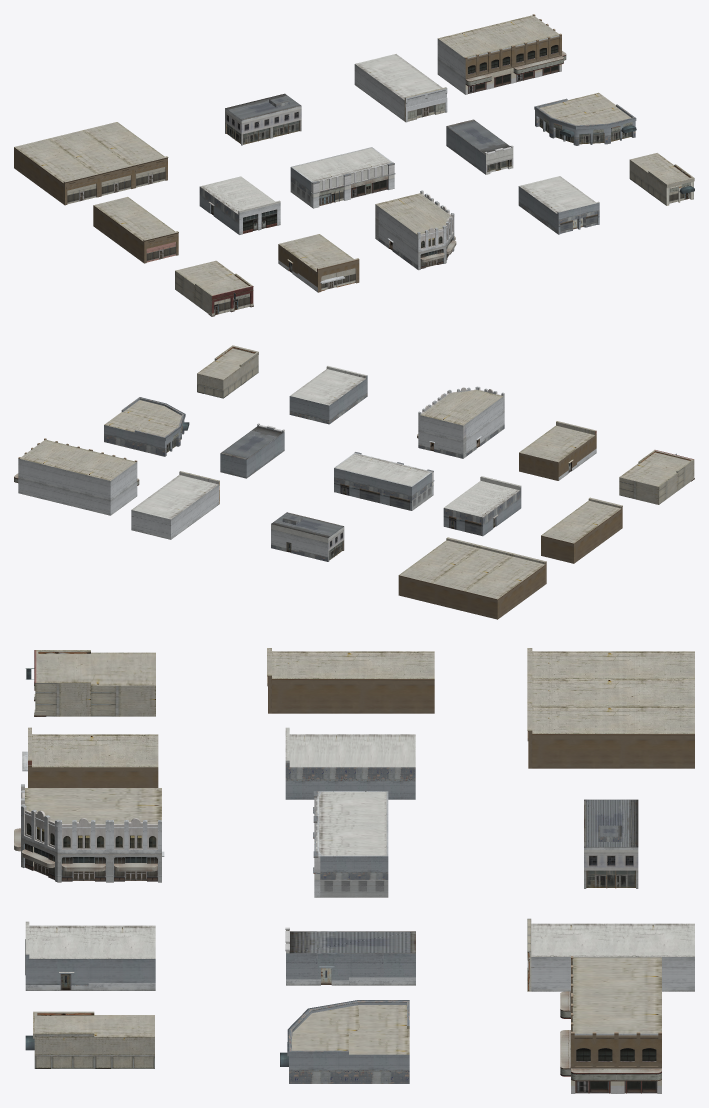
File: city_midcity_set.glb
The picture shows the model from 3 angles, top to bottom: view 1: azimuth 30°, elevation 25°; view 2: azimuth 150°, elevation 25°; view 3: azimuth 270°, elevation 25°; orthographic projection. The views are drawn at different scales.
Visible parts, largest first — view 1: MidCity_Commercial_5_B_Midcity_Facade_FLR_1_0, MidCity_Commercial_14_Midcity_Facade_FLR_1_0, MidCity_Commercial_6_Midcity_Facade_FLR_2_0, MidCity_Commercial_1_Midcity_Facade_FLR_2_0, MidCity_Commercial_7_Midcity_Facade_FLR_2_0, MidCity_Commercial_14_Midcity_Walls_FLR_1_0, MidCity_Commercial_11_Midcity_Facade_FLR_1_0, MidCity_Commercial_4_Midcity_Facade_FLR_2_0, MidCity_Commercial_2_Midcity_Facade_FLR_2_0, MidCity_Commercial_8_Midcity_Facade_FLR_2_0, MidCity_Commercial_15_Midcity_Facade_FLR_2_0, MidCity_Commercial_8_Midcity_Facade_FLR_1_0 (+11 smaller); view 2: MidCity_Commercial_5_B_Midcity_Facade_FLR_1_0, MidCity_Commercial_14_Midcity_Walls_FLR_1_0, MidCity_Commercial_1_Midcity_Facade_FLR_2_0, MidCity_Commercial_6_Midcity_Facade_FLR_2_0, MidCity_Commercial_8_Midcity_Facade_FLR_2_0, MidCity_Commercial_2_Midcity_Facade_FLR_2_0, MidCity_Commercial_5_B_Midcity_Walls_FLR_1_0, MidCity_Commercial_7_Midcity_Facade_FLR_2_0, MidCity_Commercial_11_Midcity_Facade_FLR_1_0, MidCity_Commercial_4_Midcity_Facade_FLR_2_0, MidCity_Commercial_14_Midcity_Facade_FLR_1_0, MidCity_Commercial_15_Midcity_Facade_FLR_2_0 (+8 smaller); view 3: MidCity_Commercial_5_B_Midcity_Facade_FLR_1_0, MidCity_Commercial_14_Midcity_Facade_FLR_1_0, MidCity_Commercial_7_Midcity_Facade_FLR_2_0, MidCity_Commercial_8_Midcity_Facade_FLR_1_0, MidCity_Commercial_6_Midcity_Facade_FLR_2_0, MidCity_Commercial_11_Midcity_Facade_FLR_1_0, MidCity_Commercial_2_Midcity_Facade_FLR_2_0, MidCity_Commercial_1_Midcity_Facade_FLR_2_0, MidCity_Commercial_15_Midcity_Facade_FLR_2_0, MidCity_Commercial_12_Midcity_Facade_FLR_1_0, MidCity_Commercial_5_B_Midcity_Walls_FLR_1_0, MidCity_Commercial_5_Midcity_Walls_FLR_1_0 (+8 smaller).
Part boxes in pixels (<box>): MidCity_Commercial_5_B_Midcity_Facade_FLR_1_0: <box>14,122,167,204</box>; MidCity_Commercial_14_Midcity_Facade_FLR_1_0: <box>438,15,566,93</box>; MidCity_Commercial_6_Midcity_Facade_FLR_2_0: <box>354,54,447,122</box>; MidCity_Commercial_1_Midcity_Facade_FLR_2_0: <box>290,147,395,208</box>; MidCity_Commercial_7_Midcity_Facade_FLR_2_0: <box>518,176,599,234</box>; MidCity_Commercial_14_Midcity_Walls_FLR_1_0: <box>437,14,561,94</box>; MidCity_Commercial_11_Midcity_Facade_FLR_1_0: <box>175,260,253,316</box>; MidCity_Commercial_4_Midcity_Facade_FLR_2_0: <box>225,93,301,145</box>; MidCity_Commercial_2_Midcity_Facade_FLR_2_0: <box>199,176,280,234</box>; MidCity_Commercial_8_Midcity_Facade_FLR_2_0: <box>375,190,454,270</box>; MidCity_Commercial_15_Midcity_Facade_FLR_2_0: <box>446,119,513,174</box>; MidCity_Commercial_8_Midcity_Facade_FLR_1_0: <box>375,193,456,268</box>; MidCity_Commercial_5_B_Midcity_Facade_FLR_1_0: <box>399,537,546,599</box>; MidCity_Commercial_14_Midcity_Walls_FLR_1_0: <box>18,438,137,515</box>; MidCity_Commercial_1_Midcity_Facade_FLR_2_0: <box>334,452,434,510</box>; MidCity_Commercial_6_Midcity_Facade_FLR_2_0: <box>131,472,218,539</box>; MidCity_Commercial_8_Midcity_Facade_FLR_2_0: <box>418,386,504,458</box>; MidCity_Commercial_2_Midcity_Facade_FLR_2_0: <box>443,476,521,536</box>; MidCity_Commercial_5_B_Midcity_Walls_FLR_1_0: <box>398,561,546,619</box>; MidCity_Commercial_7_Midcity_Facade_FLR_2_0: <box>289,366,367,424</box>; MidCity_Commercial_11_Midcity_Facade_FLR_1_0: <box>619,450,694,504</box>; MidCity_Commercial_4_Midcity_Facade_FLR_2_0: <box>271,512,344,561</box>; MidCity_Commercial_14_Midcity_Facade_FLR_1_0: <box>14,440,139,485</box>; MidCity_Commercial_15_Midcity_Facade_FLR_2_0: <box>220,423,284,478</box>; MidCity_Commercial_5_B_Midcity_Facade_FLR_1_0: <box>527,648,694,733</box>; MidCity_Commercial_14_Midcity_Facade_FLR_1_0: <box>560,957,661,1093</box>; MidCity_Commercial_7_Midcity_Facade_FLR_2_0: <box>25,921,155,990</box>; MidCity_Commercial_8_Midcity_Facade_FLR_1_0: <box>14,788,161,881</box>; MidCity_Commercial_6_Midcity_Facade_FLR_2_0: <box>527,923,694,991</box>; MidCity_Commercial_11_Midcity_Facade_FLR_1_0: <box>25,650,155,716</box>; MidCity_Commercial_2_Midcity_Facade_FLR_2_0: <box>285,727,415,799</box>; MidCity_Commercial_1_Midcity_Facade_FLR_2_0: <box>313,791,388,897</box>; MidCity_Commercial_15_Midcity_Facade_FLR_2_0: <box>285,927,415,985</box>; MidCity_Commercial_12_Midcity_Facade_FLR_1_0: <box>25,1011,154,1068</box>; MidCity_Commercial_5_B_Midcity_Walls_FLR_1_0: <box>527,730,694,768</box>; MidCity_Commercial_5_Midcity_Walls_FLR_1_0: <box>267,675,434,713</box>.
Bounding box in the file's own units: 151 × 10.75 × 105.
Materials: 3 (3 with a texture image).
